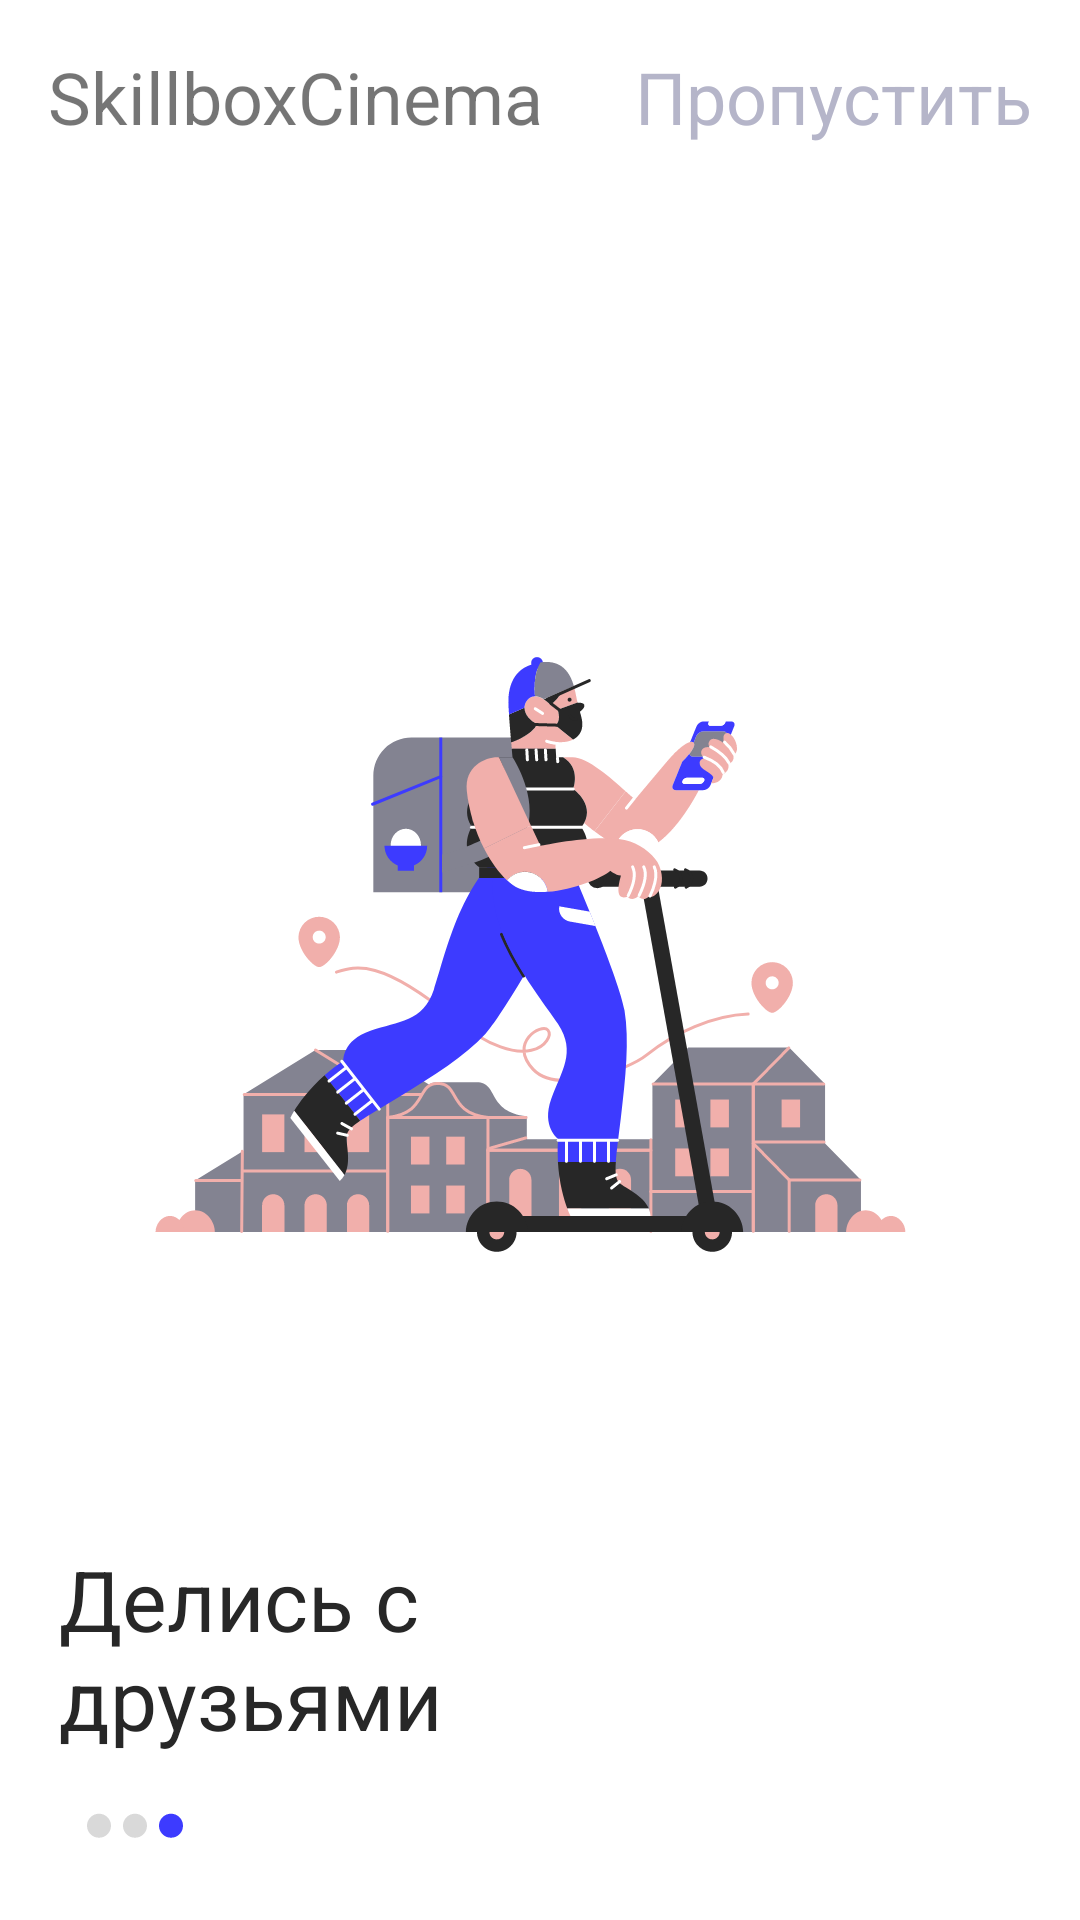

Icon bounding boxes for this 1080*1920 phone screenshot, format {"left": x1, "top": y1, "right": x2, "bottom": y2}:
third dots navigation: {"left": 87, "top": 1813, "right": 183, "bottom": 1838}
